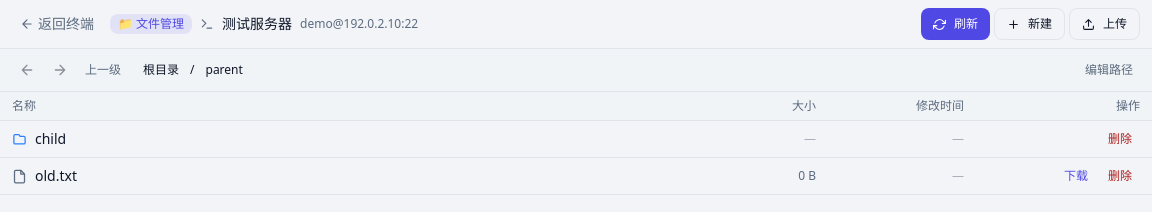
Test: 原地刷新保留列表但锁定目录、下载与删除
What coordinates should you click on to do the following:
click the button "刷新"
I would click on:
 (956, 24)
Its box is [921,8,990,40].
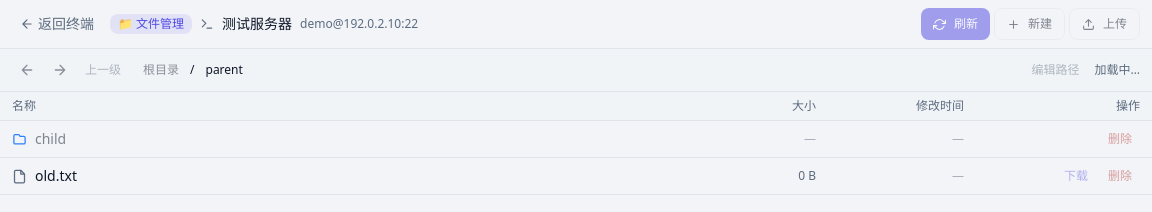
Result: the button "child" is disabled at [35,129,66,149]
Result: the button "下载" is disabled at [1056,164,1096,188]
Result: the 1st button "删除" is disabled at [1100,127,1140,151]
What coordinates should you click on to do the following:
click the row "child — — 删除"
I would click on:
 (576, 139)
Its box is [0,120,1151,158].
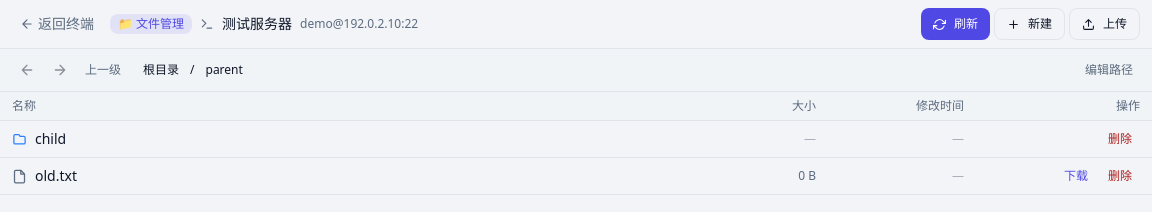
Result: the button "child" is enabled at [35,129,66,149]
